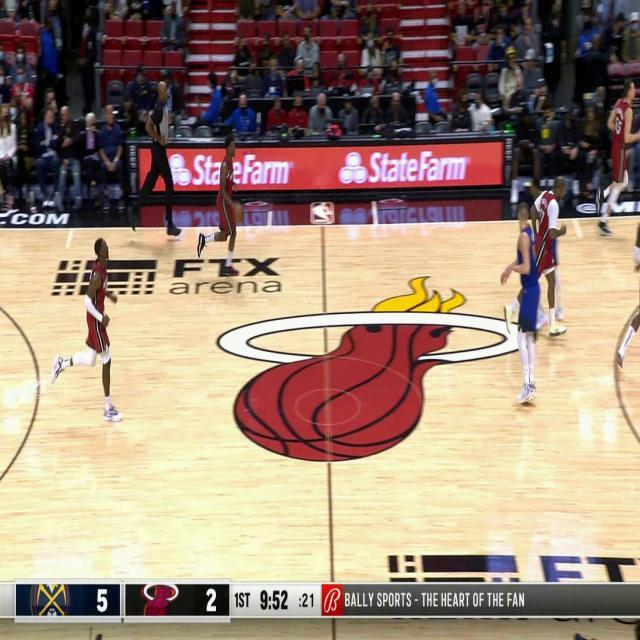rim: (232, 202, 245, 226)
